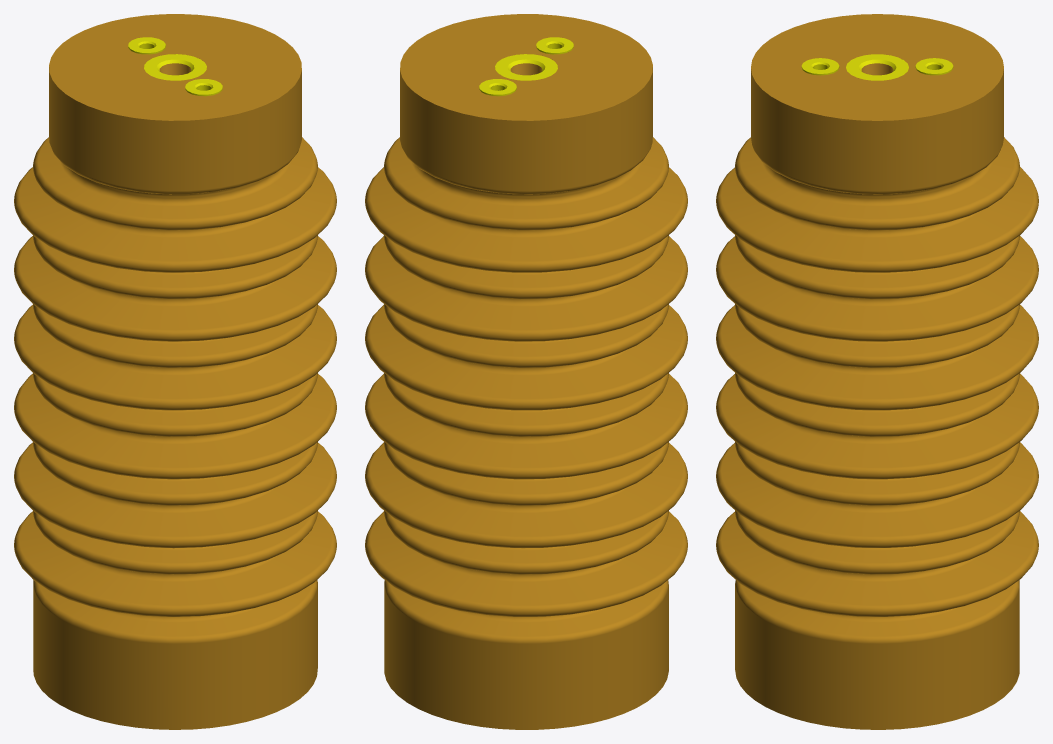
File: 04.3_izolyator-opornyy-io-20-80x210.glb
3 views of the same model, side by side, from view 1: azimuth 30°, elevation 25°; view 2: azimuth 150°, elevation 25°; view 3: azimuth 270°, elevation 25° (orthographic).
Visible parts, largest first — view 1: 04.3_izolyator-opornyy-io-20-80x210; view 2: 04.3_izolyator-opornyy-io-20-80x210; view 3: 04.3_izolyator-opornyy-io-20-80x210.
Part boxes in pixels (x1,y1,x2,y2): 04.3_izolyator-opornyy-io-20-80x210: (14,14,336,729); 04.3_izolyator-opornyy-io-20-80x210: (365,14,687,729); 04.3_izolyator-opornyy-io-20-80x210: (716,14,1038,729).
Size of the model in its own units: 0.102 by 0.2105 by 0.102.
